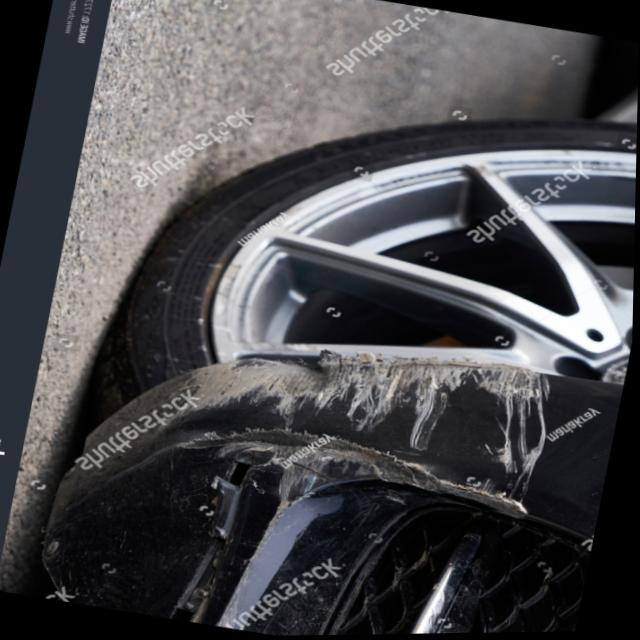Scratch: (91, 288, 586, 536)
